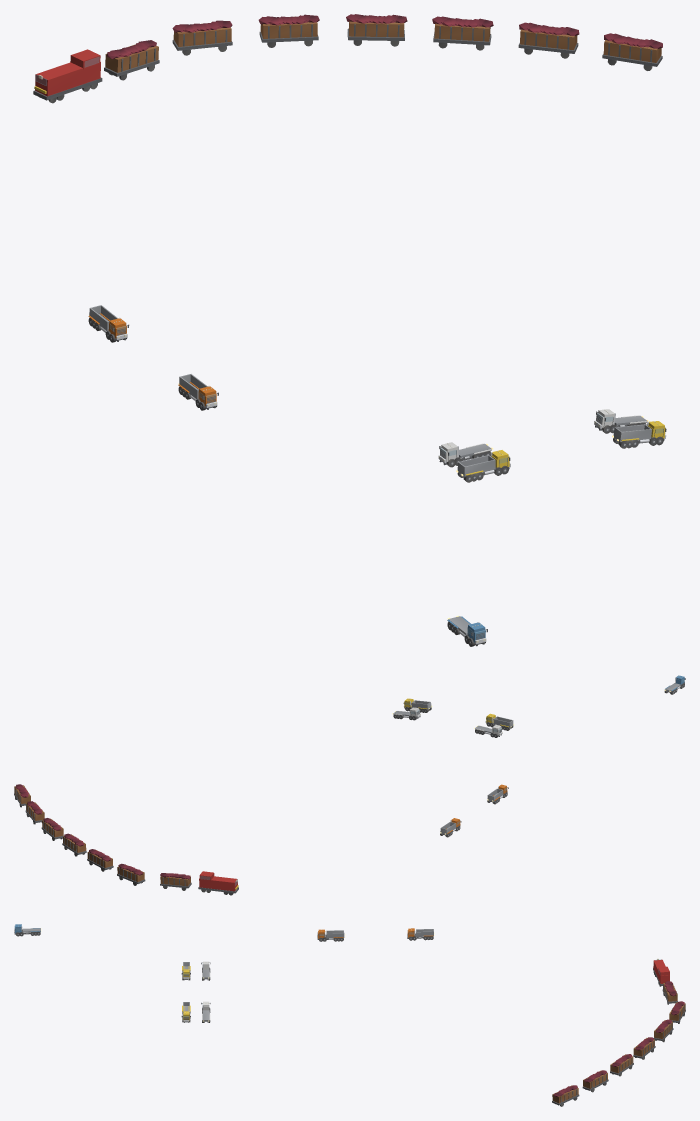
File: Vehicles_P3.fbx
The picture shows the model from 3 angles, top to bottom: view 1: azimuth 30°, elevation 25°; view 2: azimuth 150°, elevation 25°; view 3: azimuth 270°, elevation 25°; orthographic projection. The views are drawn at different scales.
Visible parts, largest first — view 1: train, wagon.005, wagon.001, wagon.006, wagon.002, wagon.004, wagon.003, wagon, truck_road_ore2, truck_road_ore3, truck_road_ore0, truck_road_ore1; view 2: train, wagon, wagon.001, wagon.002, wagon.003, wagon.004; view 3: wagon.006, wagon.005, wagon.004, train, wagon.003, truck_road_ore1, wagon.002, truck_road_ore0.
Boxes of the visible parts, x1,y1,x2,y2 form: train: [33, 49, 102, 103]; wagon.005: [518, 22, 579, 58]; wagon.001: [172, 20, 232, 55]; wagon.006: [602, 33, 662, 70]; wagon.002: [258, 14, 319, 47]; wagon.004: [432, 16, 493, 50]; wagon.003: [346, 14, 407, 46]; wagon: [104, 40, 159, 80]; truck_road_ore2: [456, 450, 510, 482]; truck_road_ore3: [612, 421, 666, 448]; truck_road_ore0: [88, 305, 129, 342]; truck_road_ore1: [178, 374, 218, 410]; train: [198, 871, 238, 895]; wagon: [160, 873, 191, 890]; wagon.001: [117, 863, 145, 885]; wagon.002: [87, 849, 113, 871]; wagon.003: [62, 833, 86, 856]; wagon.004: [41, 818, 63, 840]; wagon.006: [552, 1085, 579, 1106]; wagon.005: [582, 1070, 608, 1092]; wagon.004: [610, 1054, 633, 1076]; train: [653, 958, 669, 986]; wagon.003: [633, 1037, 655, 1059]; truck_road_ore1: [317, 929, 345, 941]; wagon.002: [653, 1019, 673, 1042]; truck_road_ore0: [407, 928, 434, 940].
Bounding box in the file's own units: 15476 × 1219 × 24528.
